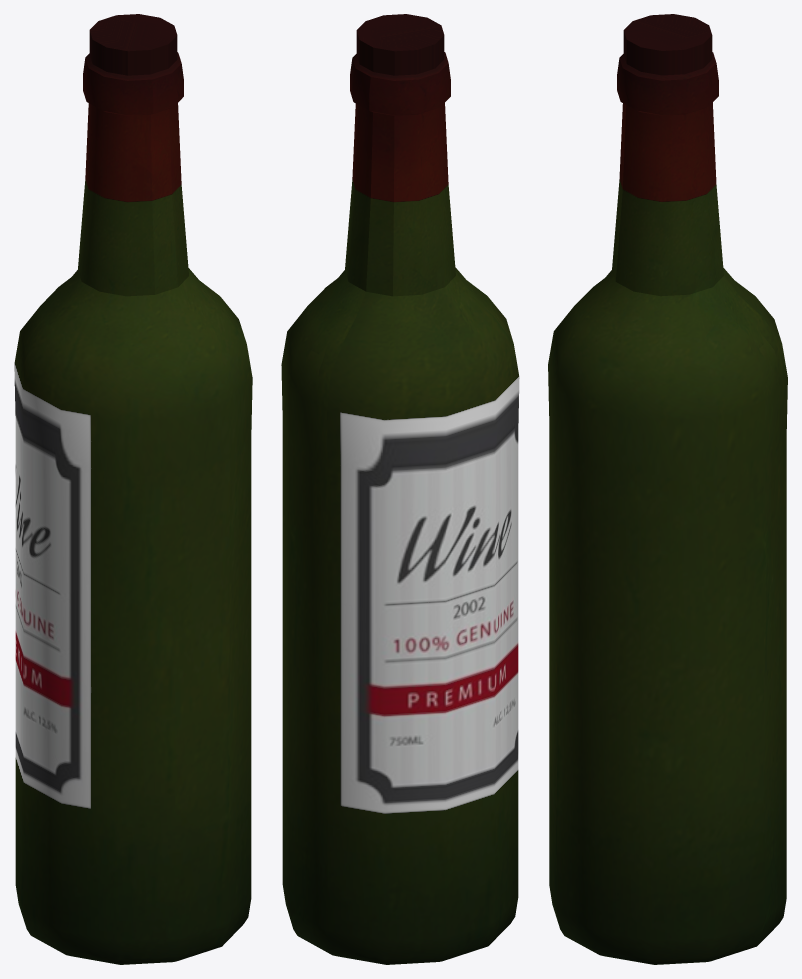
The model's file is Wine bottle 3.FBX.
3 views of the same model, side by side, from view 1: azimuth 30°, elevation 25°; view 2: azimuth 150°, elevation 25°; view 3: azimuth 270°, elevation 25° (orthographic).
Visible parts, largest first — view 1: wine bottle 3; view 2: wine bottle 3; view 3: wine bottle 3.
Part boxes in pixels (x1,y1,x2,y2): wine bottle 3: [14, 14, 252, 964]; wine bottle 3: [281, 14, 519, 964]; wine bottle 3: [548, 14, 787, 964].
Size of the model in its own units: 6.56 by 27.09 by 6.62.
1 material, 1 textured.
